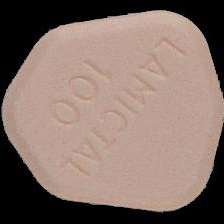54868-4675: (0, 0, 224, 224)
